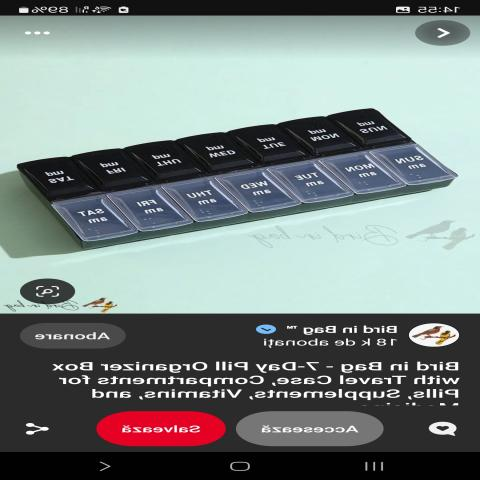Pill-box: (8, 66, 473, 256)
